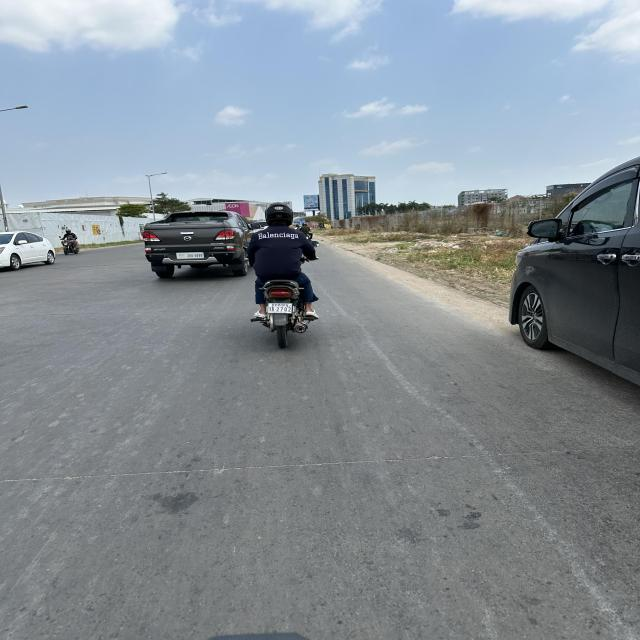Kampong_Cham: (271, 303, 288, 308)
